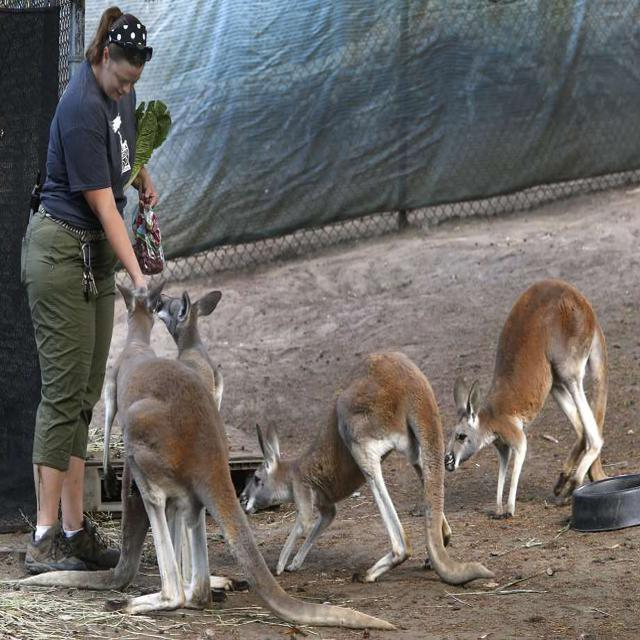kangaroo: (113, 281, 228, 611), (447, 282, 609, 471), (229, 417, 379, 570), (157, 286, 228, 381)
